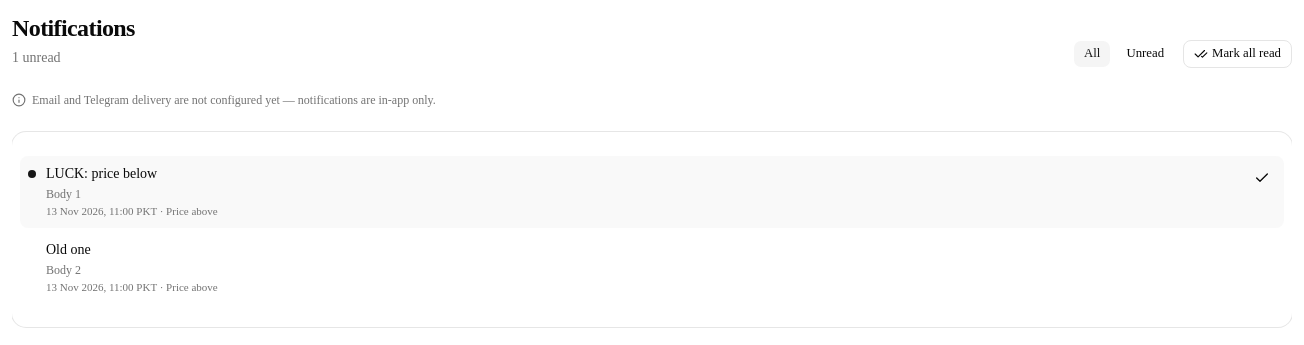
Test: Notifications page › lists the inbox, filters unread, marks read and shows the in-app-only note
Expected: the number of list items with test id "notification" is 2, [20,156,1284,228]; [46,242,218,293]
Expected: the text "1 unread" is shown, [12,50,61,65]
Click the button "Unread": {"x": 1145, "y": 54} [1115,40,1175,68]
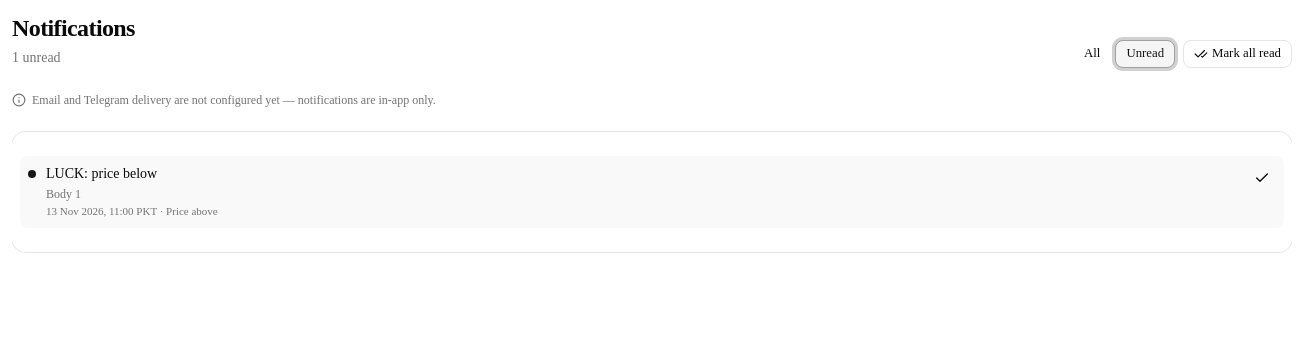
Result: the number of list items with test id "notification" is 1 at [20,156,1284,228]
Click the button named "Mark “LUCK: price below” as read": {"x": 1262, "y": 178} [1248,164,1276,192]
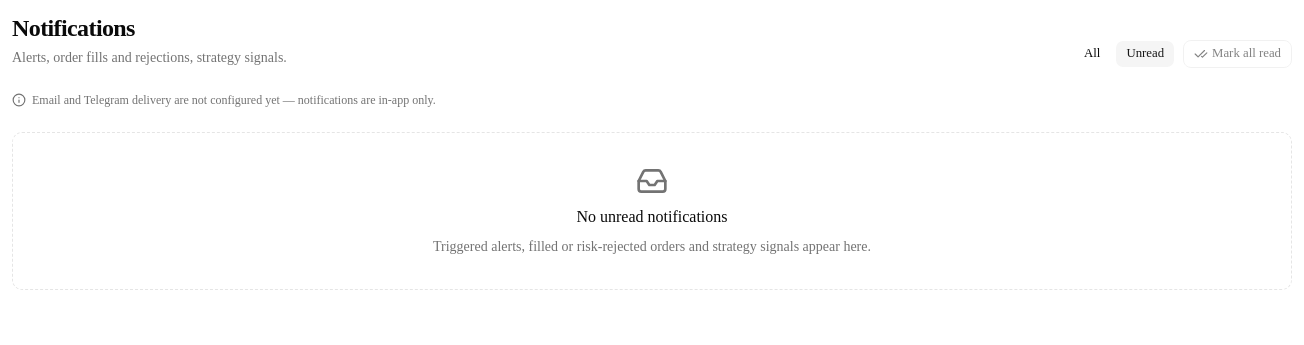
Result: the text "No unread notifications" is shown at [576,205,728,229]
Result: the button "Mark all read" is disabled at [1183,40,1292,68]
